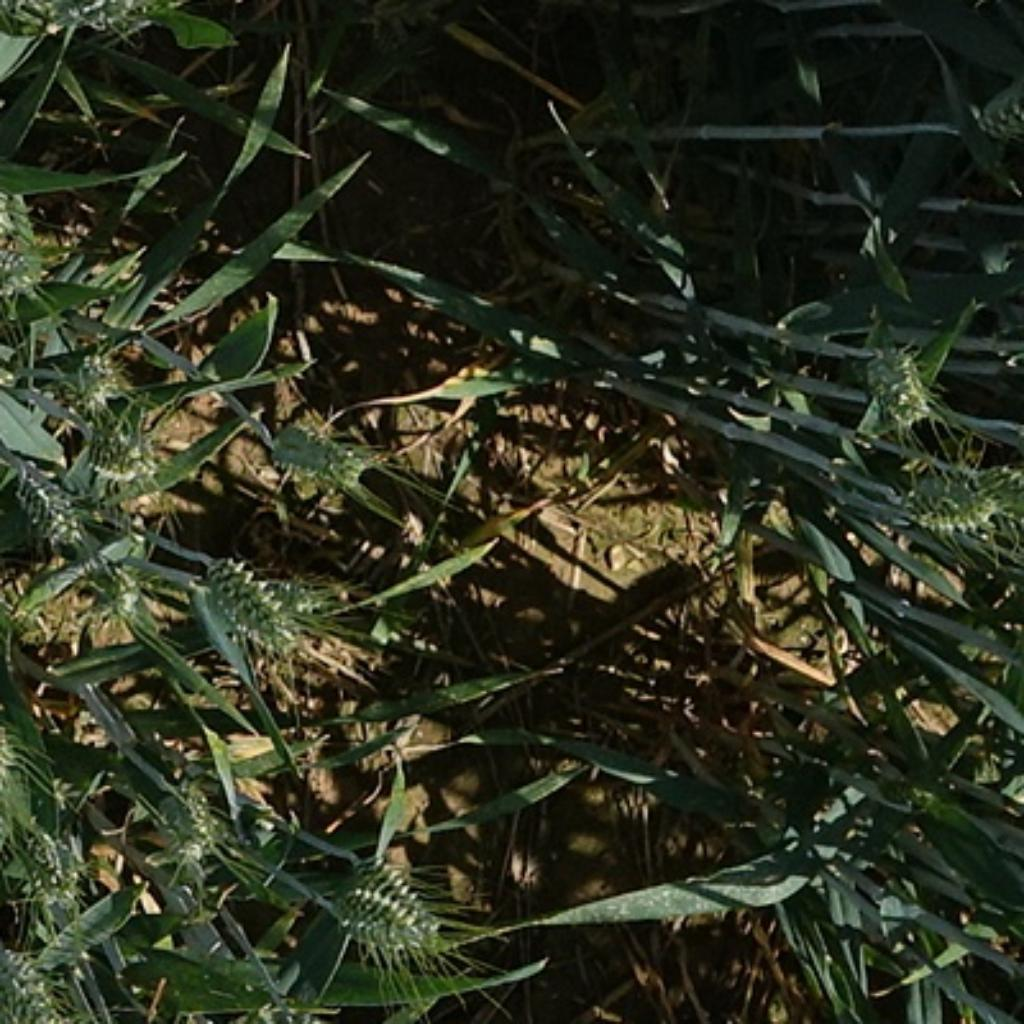0-0: (199, 554, 342, 661), (262, 405, 372, 502), (350, 849, 447, 944), (853, 339, 950, 431), (71, 412, 168, 496), (895, 461, 995, 541), (151, 787, 233, 879), (13, 828, 92, 923), (0, 926, 76, 1024), (318, 891, 433, 954), (952, 52, 1022, 154), (0, 468, 94, 540), (76, 0, 209, 48), (57, 341, 145, 413), (0, 698, 44, 811), (88, 561, 153, 637), (969, 451, 1024, 530), (0, 187, 42, 259), (0, 0, 68, 43), (0, 248, 50, 306)
